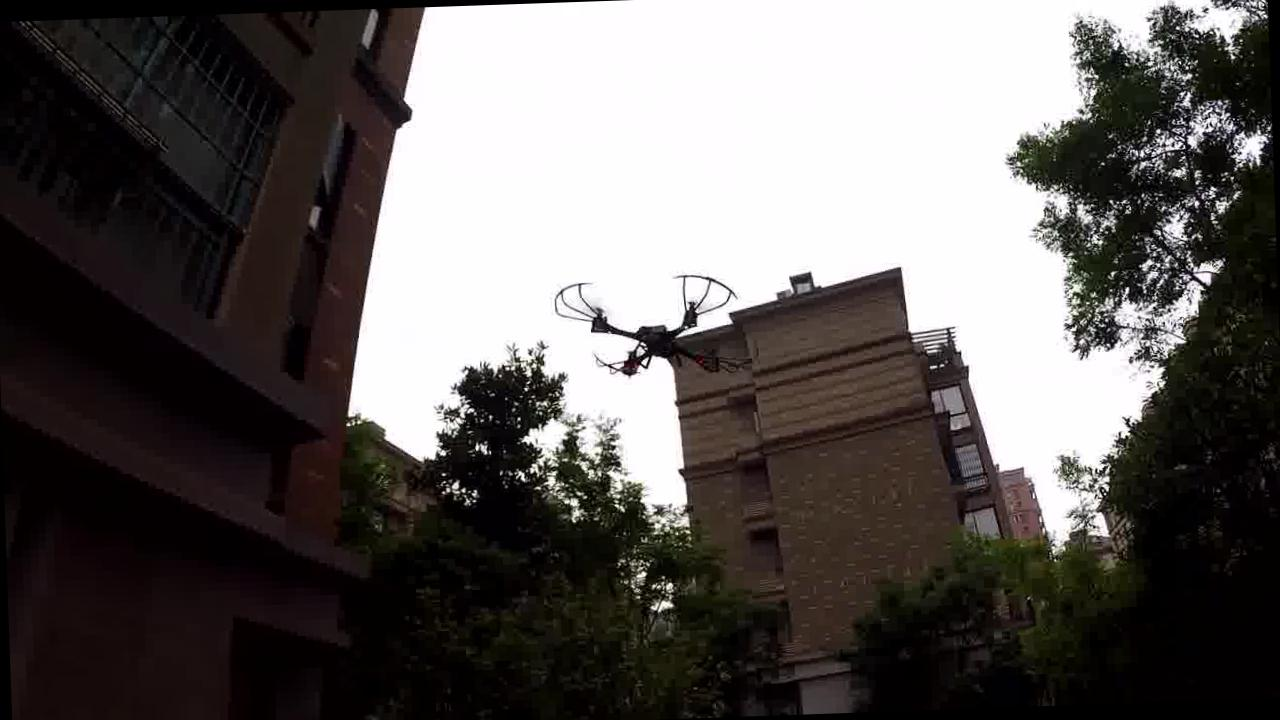drone: (521, 258, 771, 398)
